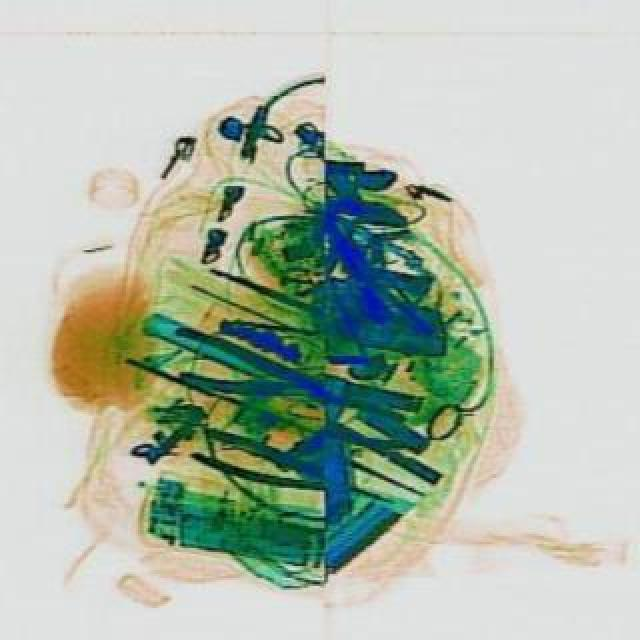wrench: (164, 322, 416, 444), (192, 420, 406, 522)
